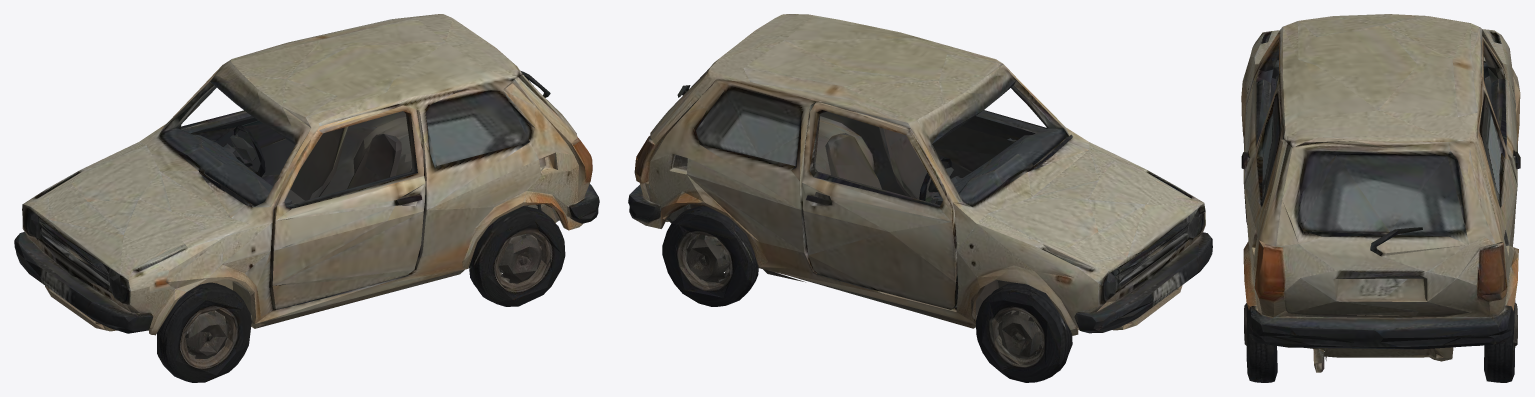
File: deco_voiture.glb
3 renders of one model, left to right at view 1: azimuth 30°, elevation 25°; view 2: azimuth 150°, elevation 25°; view 3: azimuth 270°, elevation 25°, orthographic. The views are drawn at different scales.
Bounding box in the file's own units: 1.9 × 0.8309 × 0.8155.
1 material, 1 textured.
